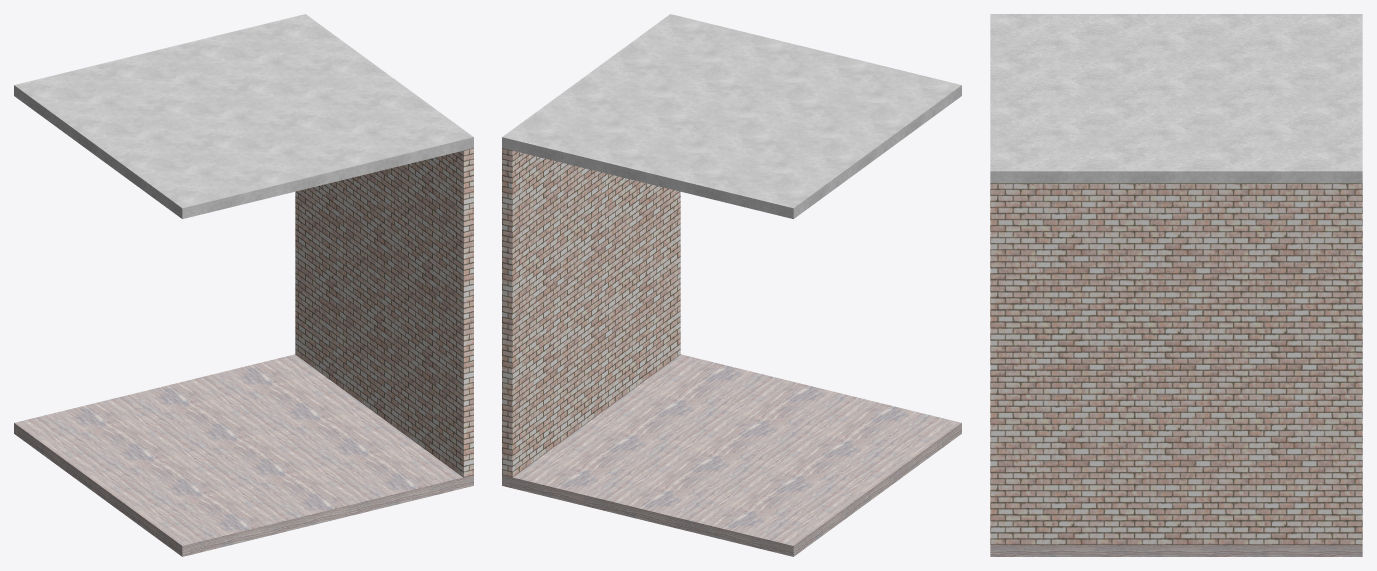
Rendered from OLD_OneWall.obj.
The picture shows the model from 3 angles, left to right: view 1: azimuth 30°, elevation 25°; view 2: azimuth 150°, elevation 25°; view 3: azimuth 270°, elevation 25°; orthographic projection. The views are drawn at different scales.
Parts seen in each view (by area): view 1: Ceiling1, Floor1, Wall1; view 2: Ceiling1, Floor1, Wall1; view 3: Wall1, Ceiling1, Floor1.
Boxes of the visible parts, x1,y1,x2,y2 form: Ceiling1: [14, 14, 473, 218]; Floor1: [14, 354, 473, 556]; Wall1: [295, 148, 473, 477]; Ceiling1: [502, 14, 961, 218]; Floor1: [502, 354, 961, 556]; Wall1: [502, 148, 680, 477]; Wall1: [990, 183, 1362, 544]; Ceiling1: [990, 14, 1362, 183]; Floor1: [990, 545, 1362, 556].
Size of the model in its own units: 28 by 32 by 28.
